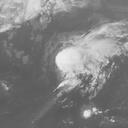cyclone: (55, 45, 90, 77)
